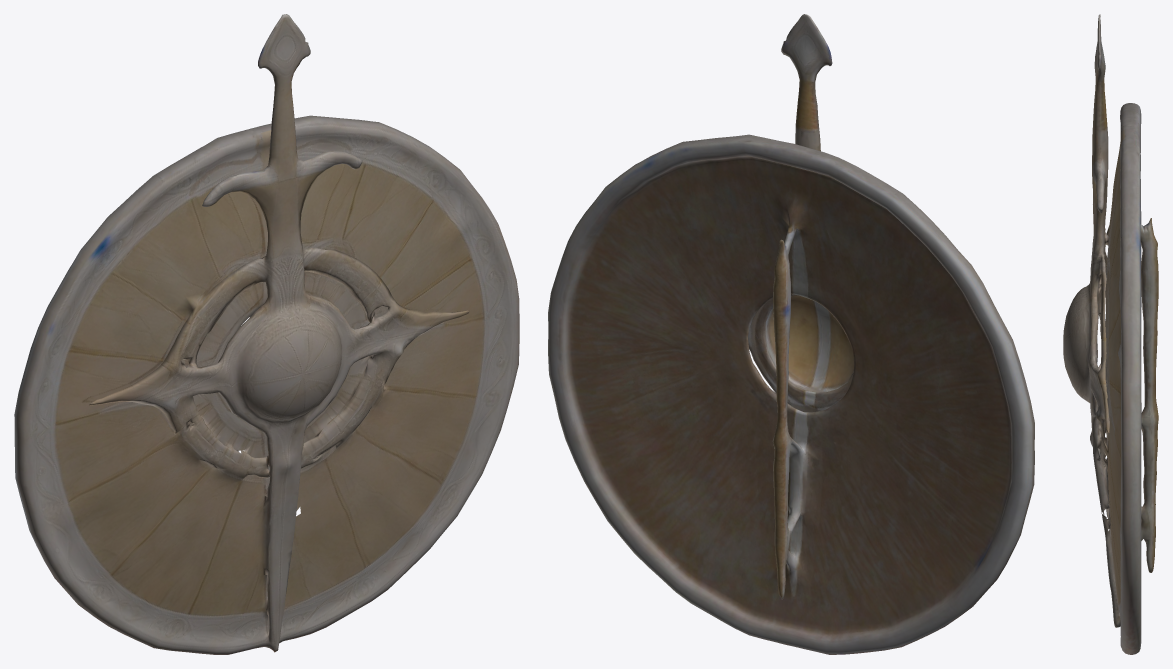
File: Mithril Shield.glb
3 views of the same model, side by side, from view 1: azimuth 30°, elevation 25°; view 2: azimuth 150°, elevation 25°; view 3: azimuth 270°, elevation 25° (orthographic). The views are drawn at different scales.
Visible parts, largest first — view 1: file1; view 2: file1; view 3: file1.
Part boxes in pixels (box(x1,y1,x2,y2)): file1: box(14, 14, 519, 654); file1: box(548, 14, 1034, 654); file1: box(1063, 14, 1158, 654).
Bounding box in the file's own units: 1.6 × 1.97 × 0.2789.
1 material, 1 textured.
